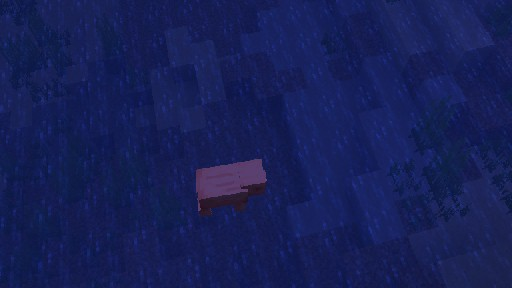pig: (195, 158, 267, 217)
